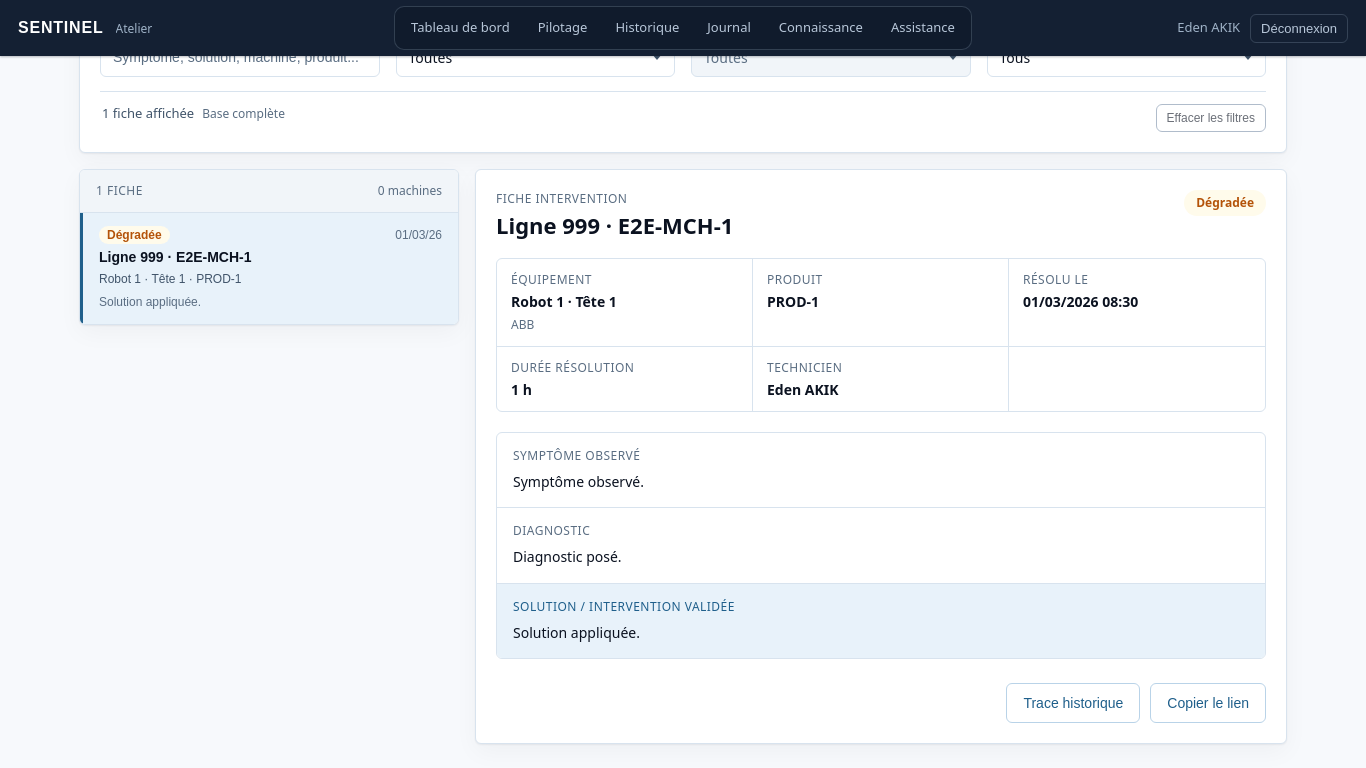
WorkshopKnowledgePage — copie du lien › annule le timer de succès local lorsque la page est démontée
(page scrolled)
Click the button "Copier le lien".
click(1208, 703)  # box [1150, 683, 1266, 723]
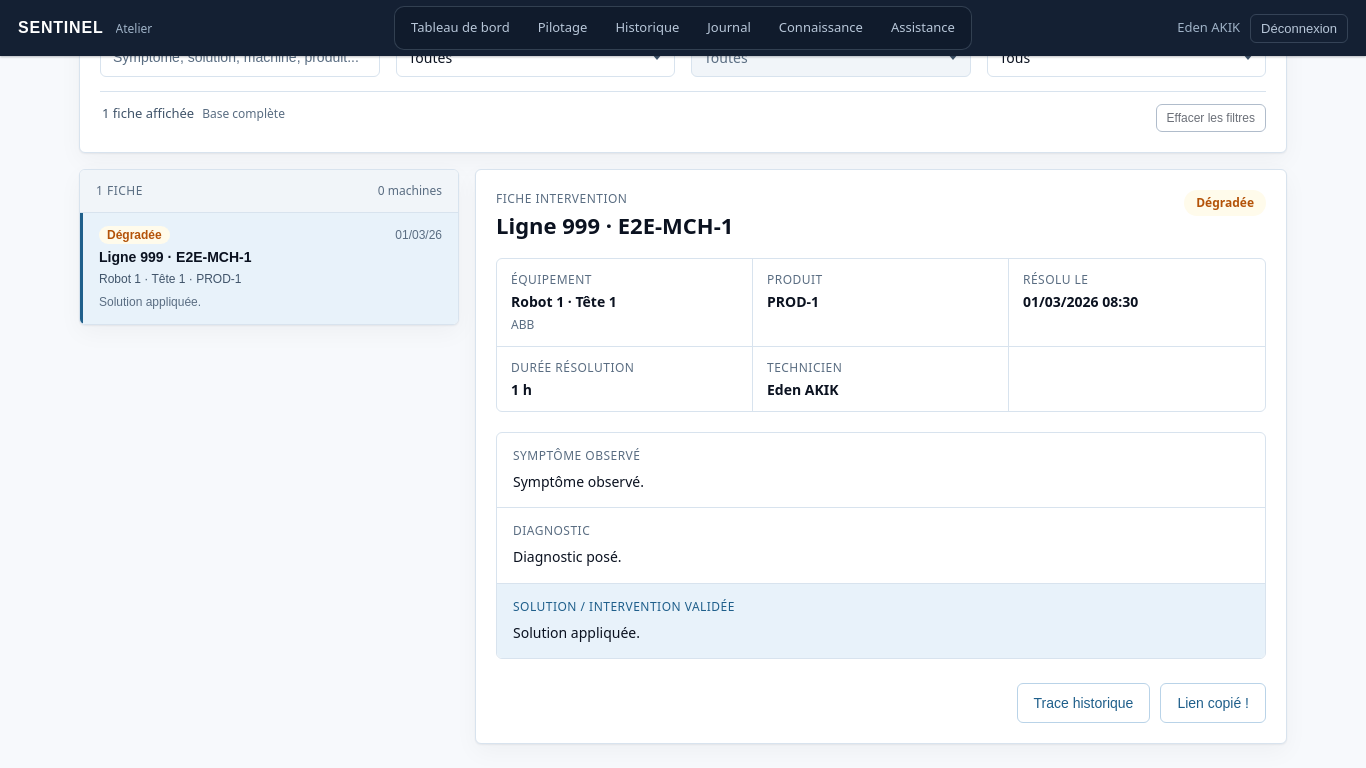
expect the button "Lien copié !" is shown: met, box [1160, 683, 1266, 723]
